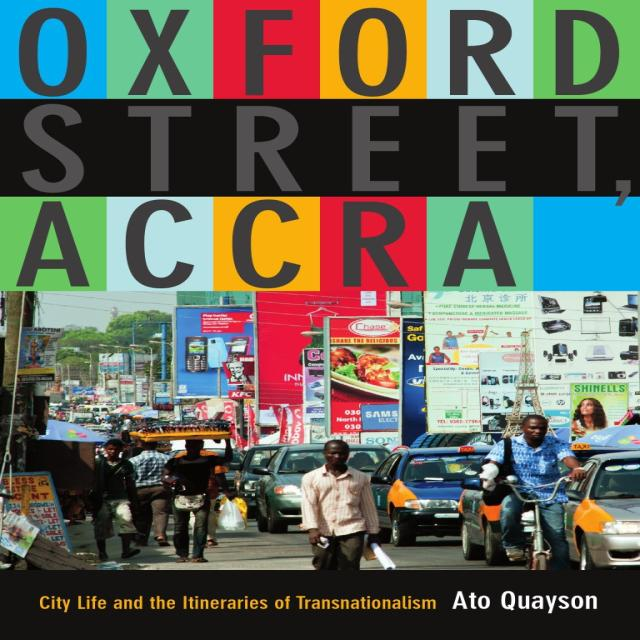body: (478, 413, 590, 571), (299, 439, 383, 571), (160, 438, 236, 564), (172, 438, 238, 550), (86, 438, 142, 562), (126, 439, 175, 548), (45, 398, 136, 434), (424, 327, 484, 371), (568, 396, 614, 444), (224, 360, 258, 386), (120, 434, 144, 460), (25, 336, 45, 366), (351, 451, 372, 470)
